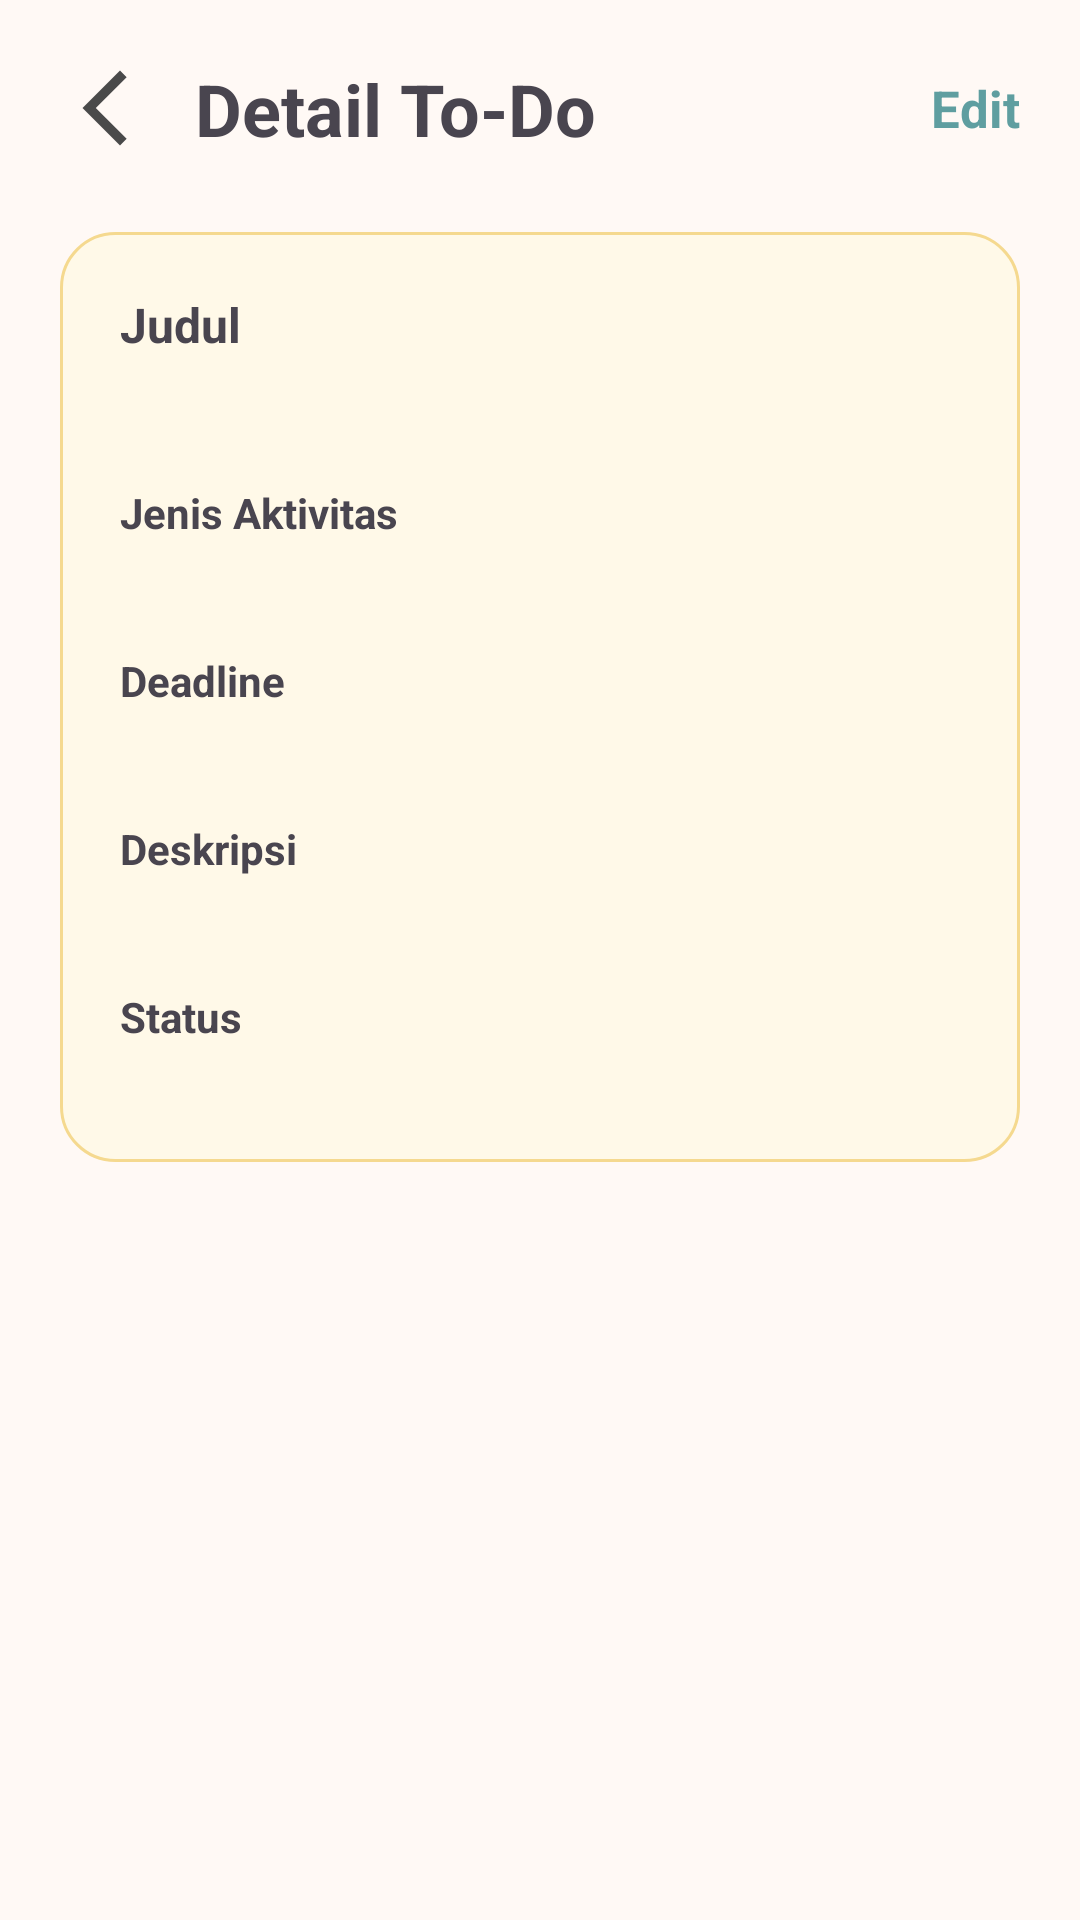

Icon click points for this 1080px x 1920px phone screenshot, format (x=x, y=y):
back: (x=105, y=108)
